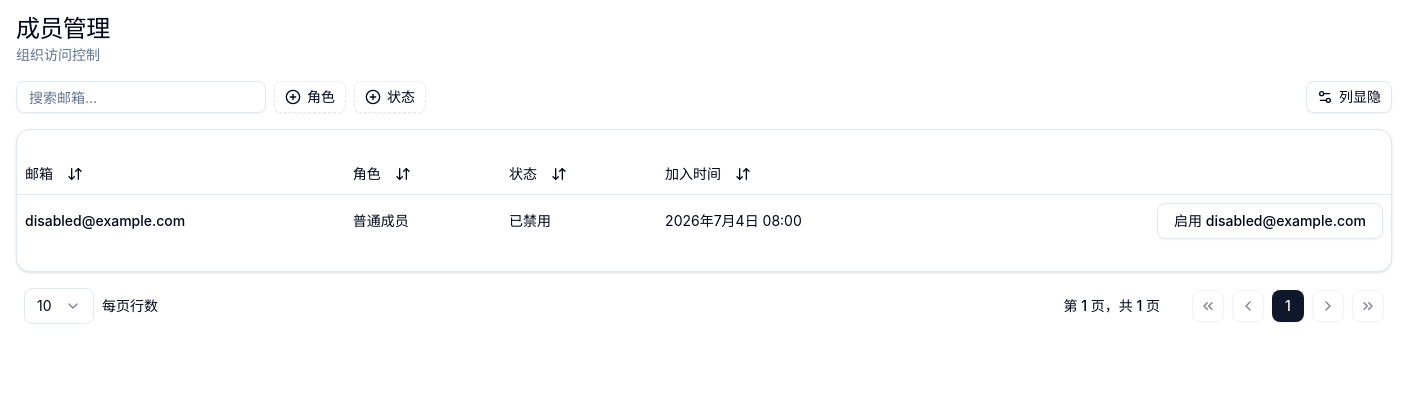
it: MembersPage › shows a safe error message when a member update fails
The image size is (1409, 415).
What coordinates should you click on to do the following:
click the button "启用 disabled@example.com"
I would click on:
 (1270, 220)
Its box is [1157,202,1383,238].
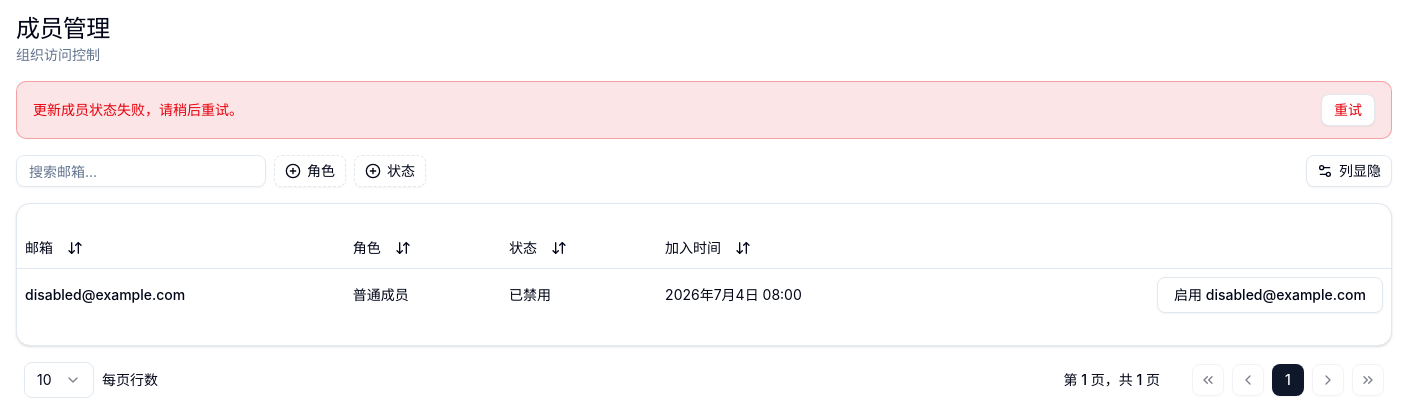
Result: the message shows "更新成员状态失败，请稍后重试。" at [33,101,243,118]
